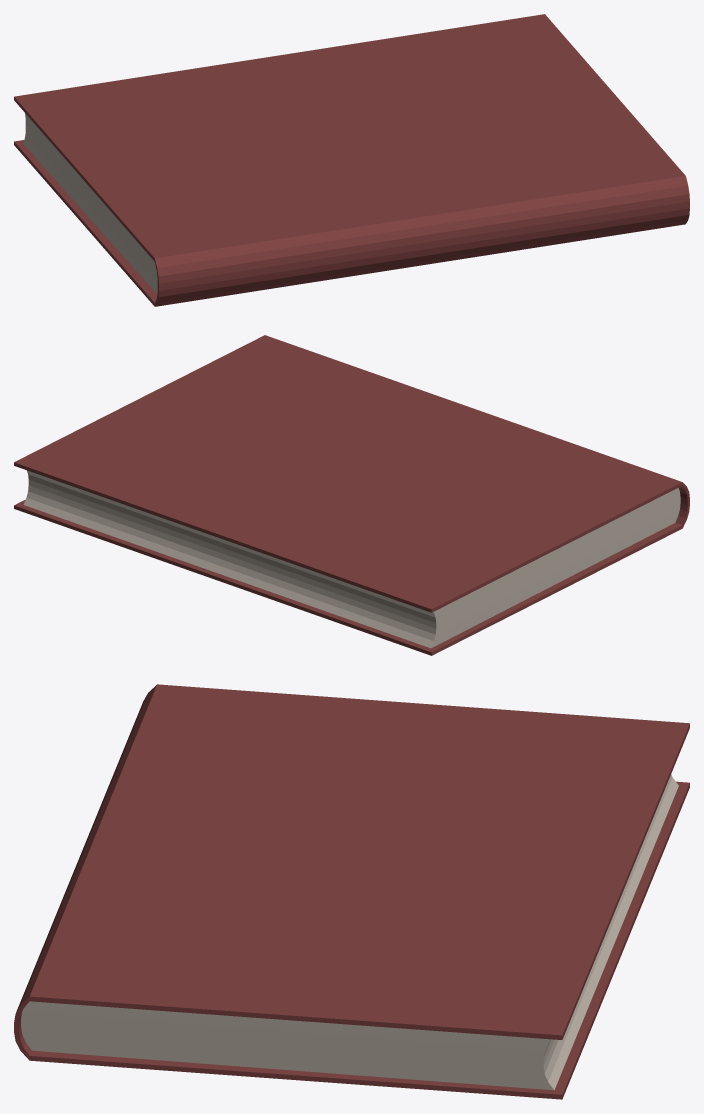
The model's file is book.fbx.
3 renders of one model, top to bottom at view 1: azimuth 30°, elevation 25°; view 2: azimuth 150°, elevation 25°; view 3: azimuth 270°, elevation 25°, orthographic. The views are drawn at different scales.
Visible parts, largest first — view 1: Cube.010; view 2: Cube.010; view 3: Cube.010.
Boxes of the visible parts, x1,y1,x2,y2 form: Cube.010: (14, 14, 689, 306); Cube.010: (14, 335, 689, 655); Cube.010: (14, 684, 689, 1099).
Bounding box in the file's own units: 2787 × 237 × 2261.
